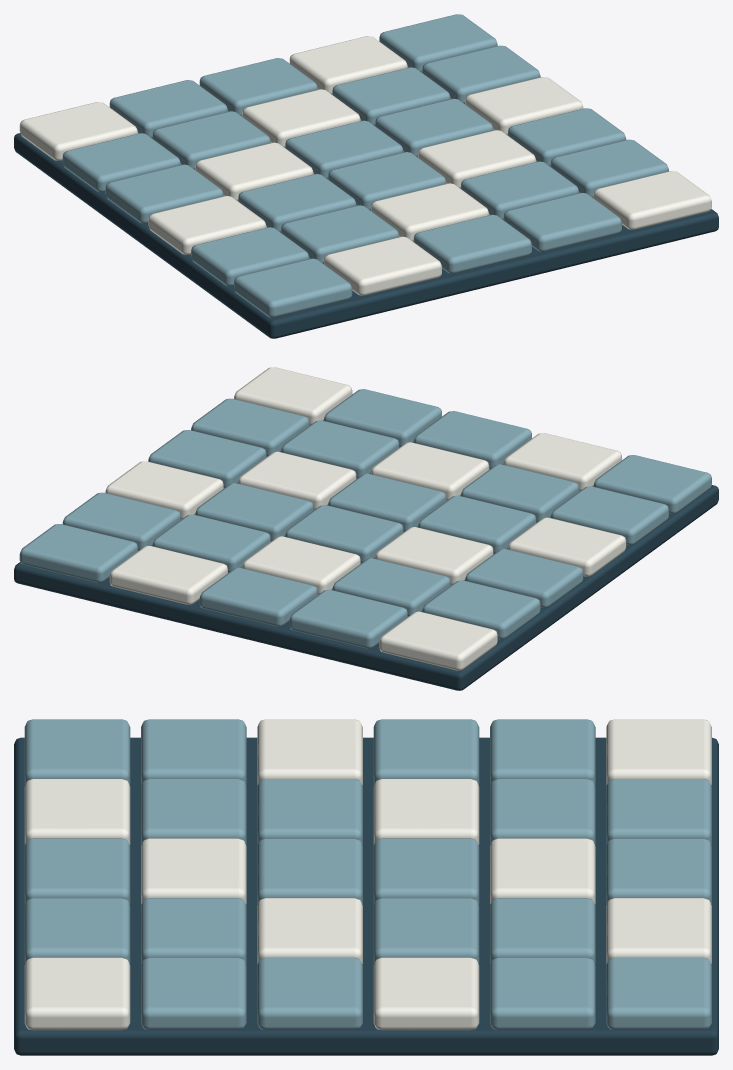
File: storybook-christmas-market-cobbled-square-tile-a0aa1b08__19692.glb
The picture shows the model from 3 angles, top to bottom: view 1: azimuth 30°, elevation 25°; view 2: azimuth 150°, elevation 25°; view 3: azimuth 270°, elevation 25°; orthographic projection. The views are drawn at different scales.
Visible parts, largest first — view 1: cobbled-square-tile; view 2: cobbled-square-tile; view 3: cobbled-square-tile.
Part boxes in pixels (x1,y1,x2,y2): cobbled-square-tile: (14,14,718,338); cobbled-square-tile: (14,367,718,690); cobbled-square-tile: (14,719,718,1055).
Bounding box in the file's own units: 2 × 0.145 × 2.
